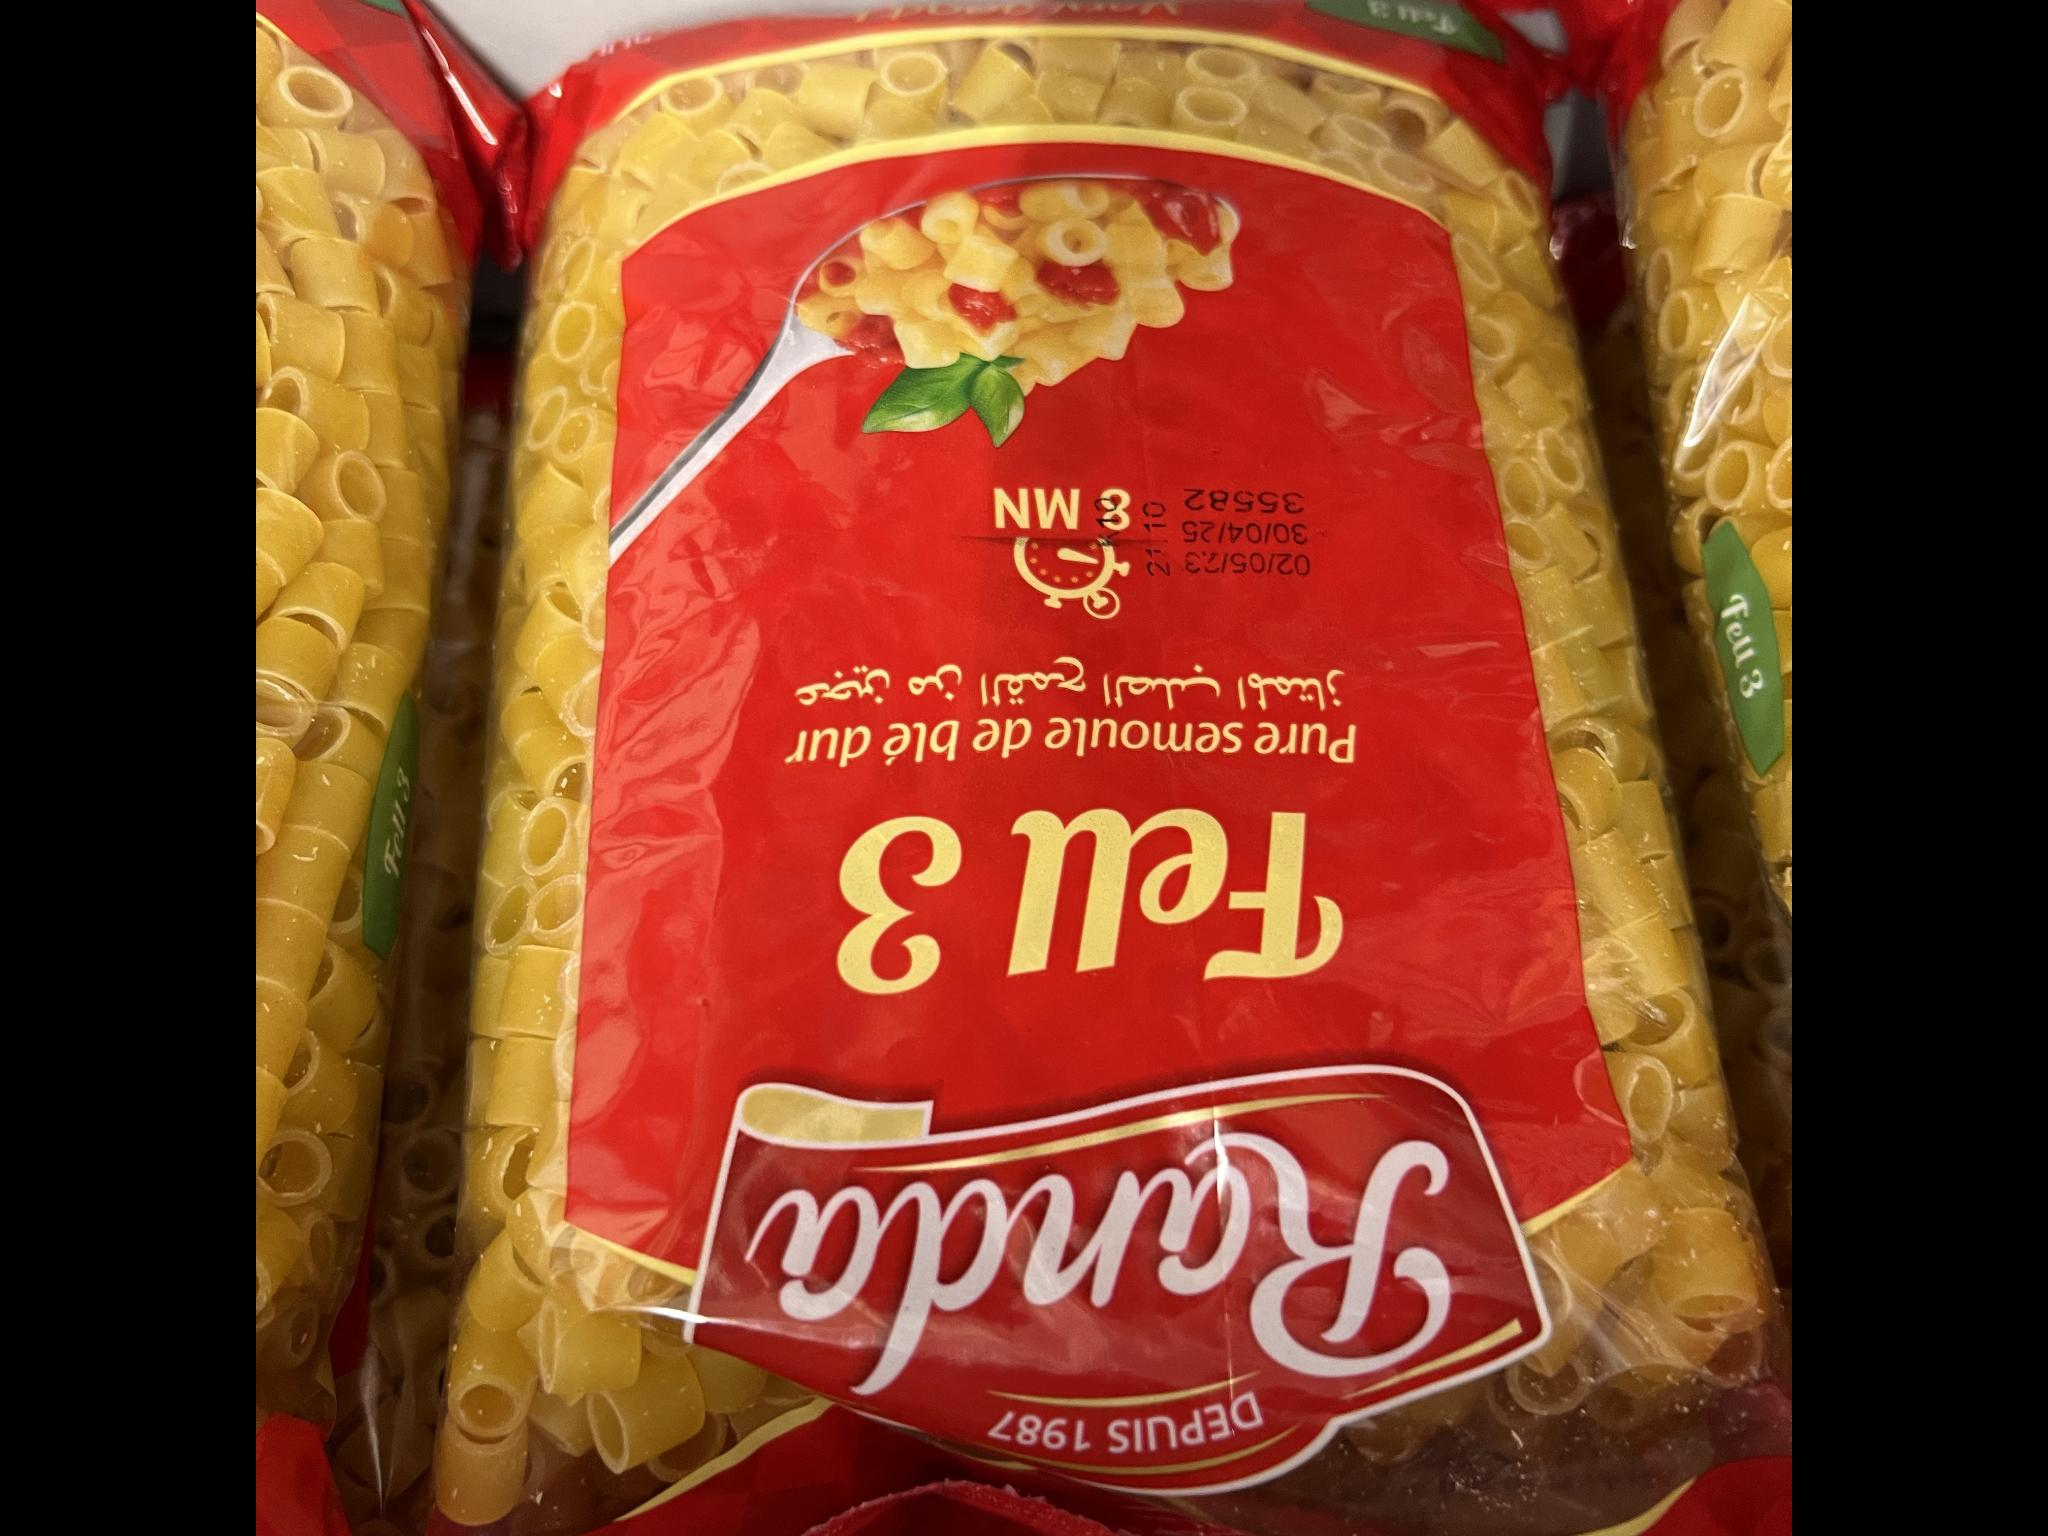Fell: (431, 19, 1622, 1536)
